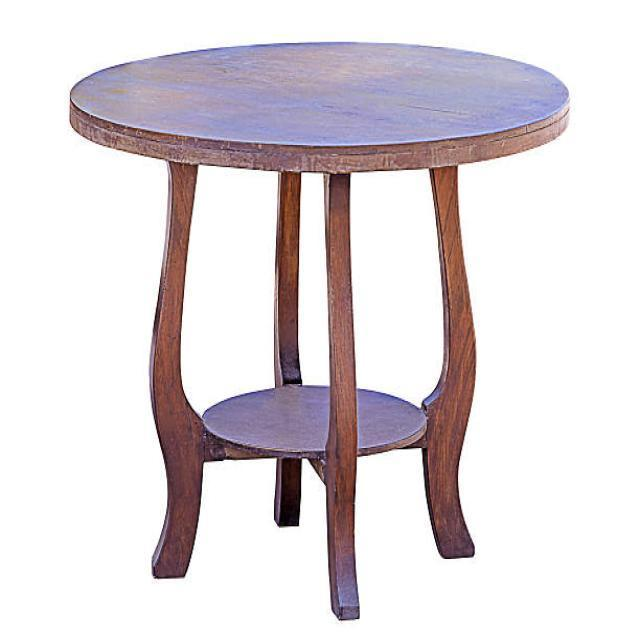table: (68, 39, 570, 619)
